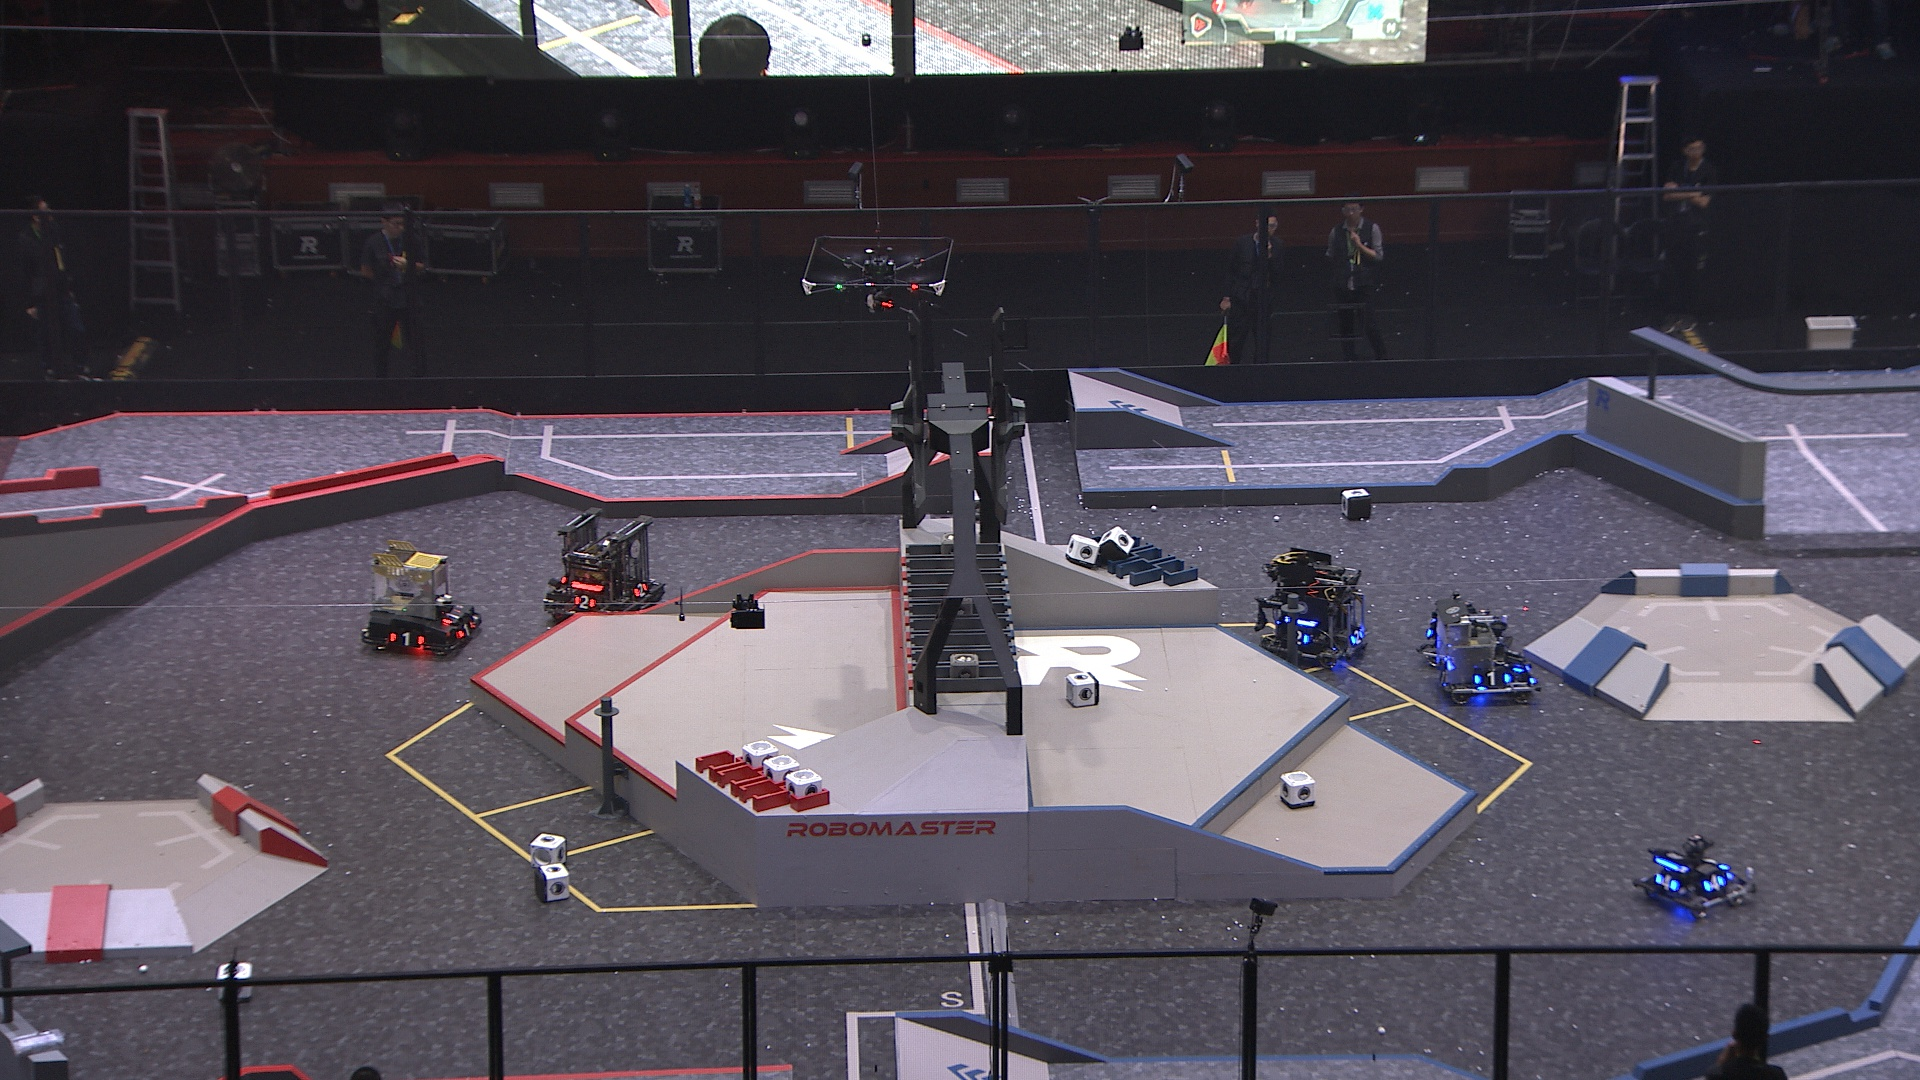armor: (1476, 670, 1515, 688), (389, 632, 425, 647), (1654, 873, 1677, 893), (455, 618, 476, 640), (1702, 855, 1727, 870), (1705, 874, 1727, 891), (572, 593, 596, 608), (442, 608, 463, 624), (1349, 628, 1365, 646), (1437, 669, 1451, 690), (632, 582, 647, 599), (1290, 632, 1307, 646)
car: (541, 505, 670, 636), (1253, 547, 1367, 669), (363, 547, 484, 657), (1429, 597, 1538, 709), (1633, 828, 1756, 918)
